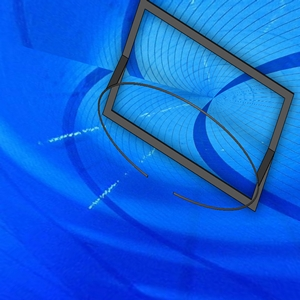circle: (97, 1, 295, 214)
